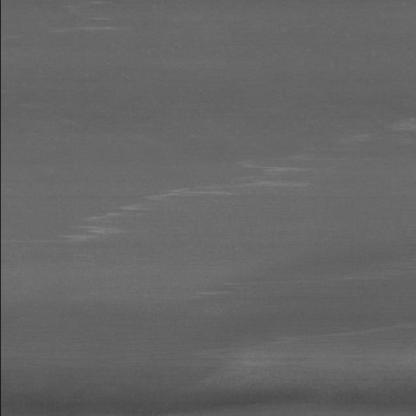silk_spot: (44, 139, 330, 252)
